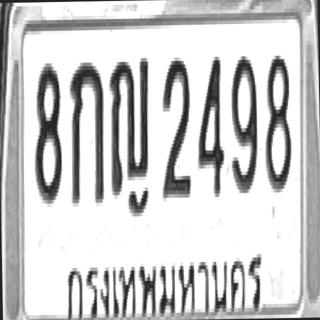A01: (68, 58, 104, 203)
A13: (108, 54, 151, 198)
N02: (160, 56, 191, 200)
N04: (196, 53, 224, 197)
N08: (32, 60, 62, 204), (263, 50, 292, 190)
N09: (229, 52, 258, 193)
P04: (64, 245, 268, 320)
